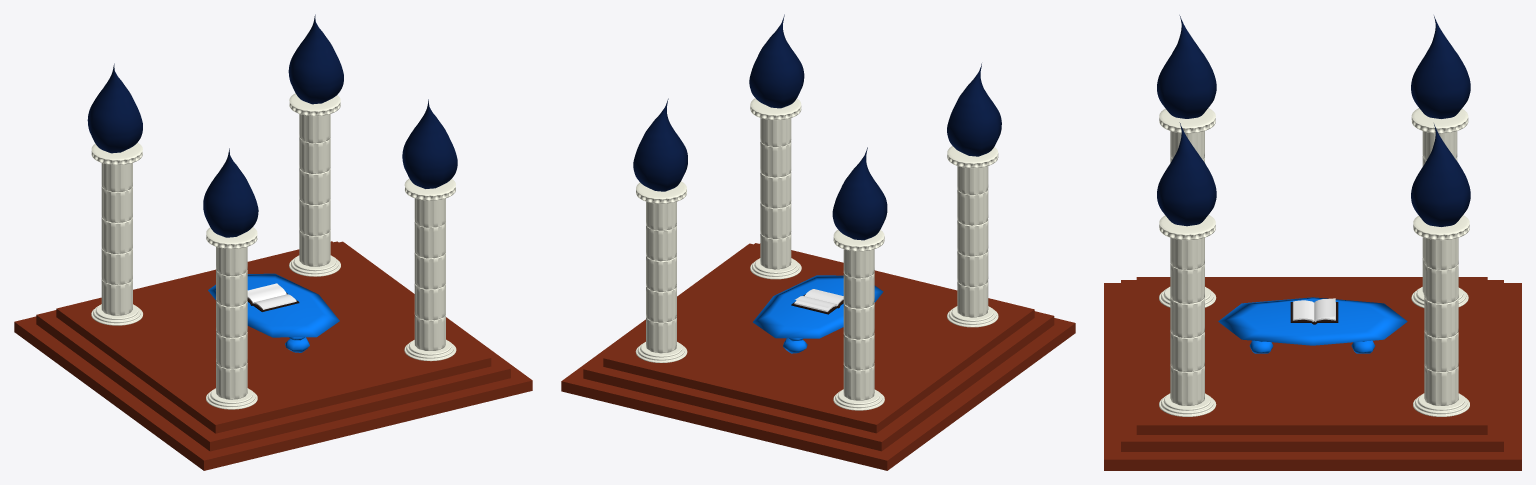
The model's file is WaterALTAR1.obj.
3 views of the same model, side by side, from view 1: azimuth 30°, elevation 25°; view 2: azimuth 150°, elevation 25°; view 3: azimuth 270°, elevation 25° (orthographic). The views are drawn at different scales.
Visible parts, largest first — view 1: MushroomsALTAR5:altar:pCube15 MushroomsALTAR5:polySurface30, MushroomsALTAR5:altar:polySurface29 MushroomsALTAR5:altar:pCube1, MushroomsALTAR5:altar:pCube15 MushroomsALTAR5:polySurface29, MushroomsALTAR5:altar:pCylinder9, MushroomsALTAR5:altar:pCylinder12, MushroomsALTAR5:altar:pCylinder11, MushroomsALTAR5:altar:pCylinder10, MushroomsALTAR5:altar:polySurface26 MushroomsALTAR5:polySurface3, pCube28, pCube30, Water:pCube28, pCube29; view 2: MushroomsALTAR5:altar:pCube15 MushroomsALTAR5:polySurface30, MushroomsALTAR5:altar:polySurface29 MushroomsALTAR5:altar:pCube1, MushroomsALTAR5:altar:pCube15 MushroomsALTAR5:polySurface29, MushroomsALTAR5:altar:pCylinder10, MushroomsALTAR5:altar:pCylinder11, MushroomsALTAR5:altar:pCylinder12, MushroomsALTAR5:altar:pCylinder9, MushroomsALTAR5:altar:polySurface26 MushroomsALTAR5:polySurface3, pCube29, Water:pCube28, pCube30, pCube28; view 3: MushroomsALTAR5:altar:pCube15 MushroomsALTAR5:polySurface30, MushroomsALTAR5:altar:polySurface29 MushroomsALTAR5:altar:pCube1, MushroomsALTAR5:altar:pCube15 MushroomsALTAR5:polySurface29, MushroomsALTAR5:altar:pCylinder10, MushroomsALTAR5:altar:pCylinder9, MushroomsALTAR5:altar:polySurface26 MushroomsALTAR5:polySurface3, pCube29, pCube28, pCube30, Water:pCube28, MushroomsALTAR5:altar:pCylinder12, MushroomsALTAR5:altar:pCylinder11 (+1 smaller).
Boxes of the visible parts, <box> form: MushroomsALTAR5:altar:pCube15 MushroomsALTAR5:polySurface30: <box>56,241,491,433</box>; MushroomsALTAR5:altar:polySurface29 MushroomsALTAR5:altar:pCube1: <box>14,241,532,470</box>; MushroomsALTAR5:altar:pCube15 MushroomsALTAR5:polySurface29: <box>36,241,510,451</box>; MushroomsALTAR5:altar:pCylinder9: <box>289,93,340,276</box>; MushroomsALTAR5:altar:pCylinder12: <box>91,143,143,325</box>; MushroomsALTAR5:altar:pCylinder11: <box>206,227,257,409</box>; MushroomsALTAR5:altar:pCylinder10: <box>404,178,456,361</box>; MushroomsALTAR5:altar:polySurface26 MushroomsALTAR5:polySurface3: <box>208,273,339,352</box>; pCube28: <box>203,148,258,237</box>; pCube30: <box>288,14,343,104</box>; Water:pCube28: <box>87,63,142,153</box>; pCube29: <box>402,99,457,188</box>; MushroomsALTAR5:altar:pCube15 MushroomsALTAR5:polySurface30: <box>603,243,1034,433</box>; MushroomsALTAR5:altar:polySurface29 MushroomsALTAR5:altar:pCube1: <box>561,243,1075,470</box>; MushroomsALTAR5:altar:pCube15 MushroomsALTAR5:polySurface29: <box>583,243,1054,451</box>; MushroomsALTAR5:altar:pCylinder10: <box>750,98,801,279</box>; MushroomsALTAR5:altar:pCylinder11: <box>947,146,998,327</box>; MushroomsALTAR5:altar:pCylinder12: <box>833,230,884,410</box>; MushroomsALTAR5:altar:pCylinder9: <box>635,181,687,362</box>; MushroomsALTAR5:altar:polySurface26 MushroomsALTAR5:polySurface3: <box>753,275,883,353</box>; pCube29: <box>749,14,804,108</box>; Water:pCube28: <box>832,147,887,240</box>; pCube30: <box>633,98,687,191</box>; pCube28: <box>947,63,1001,156</box>; MushroomsALTAR5:altar:pCube15 MushroomsALTAR5:polySurface30: <box>1136,277,1487,434</box>; MushroomsALTAR5:altar:polySurface29 MushroomsALTAR5:altar:pCube1: <box>1104,283,1521,470</box>; MushroomsALTAR5:altar:pCube15 MushroomsALTAR5:polySurface29: <box>1121,280,1503,451</box>; MushroomsALTAR5:altar:pCylinder10: <box>1159,215,1216,416</box>; MushroomsALTAR5:altar:pCylinder9: <box>1413,215,1469,416</box>; MushroomsALTAR5:altar:polySurface26 MushroomsALTAR5:polySurface3: <box>1218,297,1407,353</box>; pCube29: <box>1157,122,1216,226</box>; pCube28: <box>1157,15,1216,118</box>; pCube30: <box>1411,124,1470,226</box>; Water:pCube28: <box>1411,16,1470,118</box>; MushroomsALTAR5:altar:pCylinder12: <box>1411,108,1468,307</box>; MushroomsALTAR5:altar:pCylinder11: <box>1159,108,1216,307</box>.
Size of the model in its own units: 13.82 by 11.4 by 13.82.
